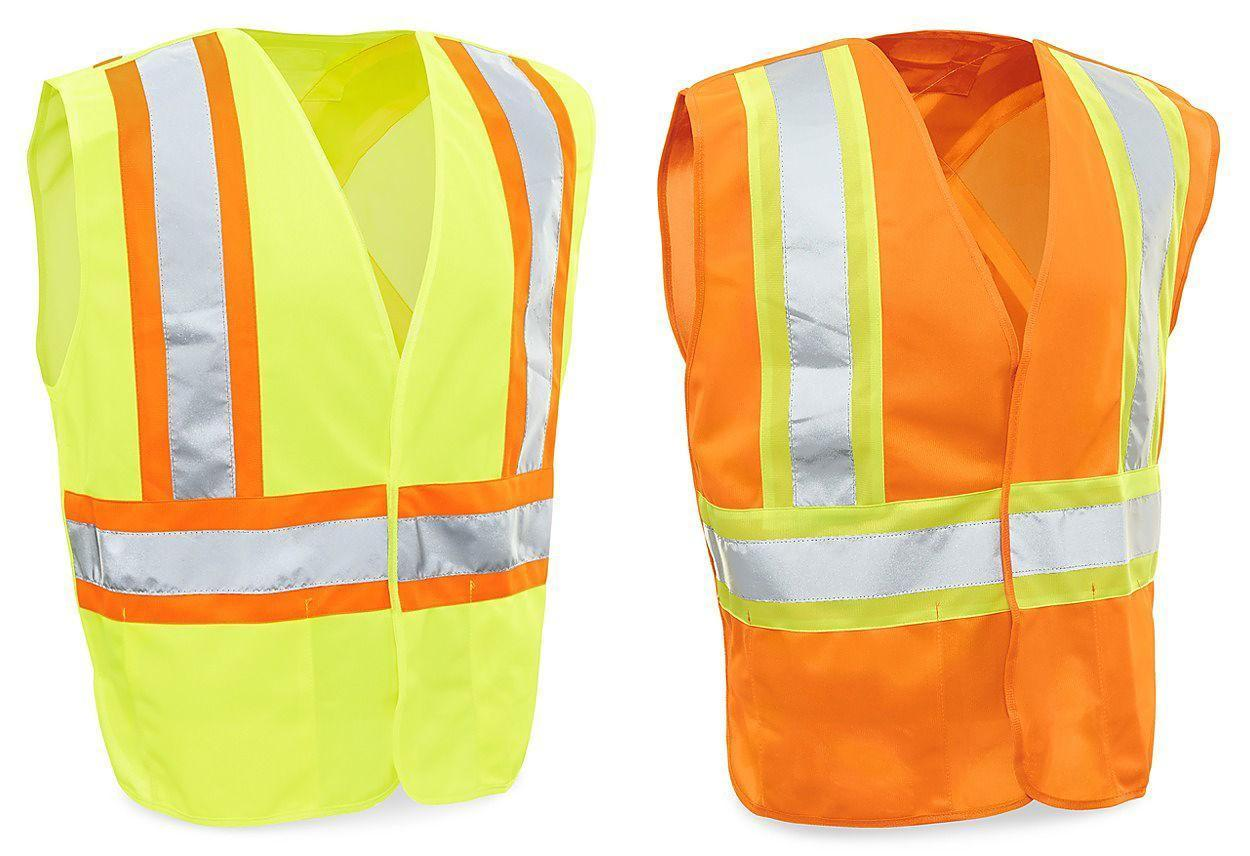vest: (25, 21, 599, 832), (659, 34, 1221, 833)
